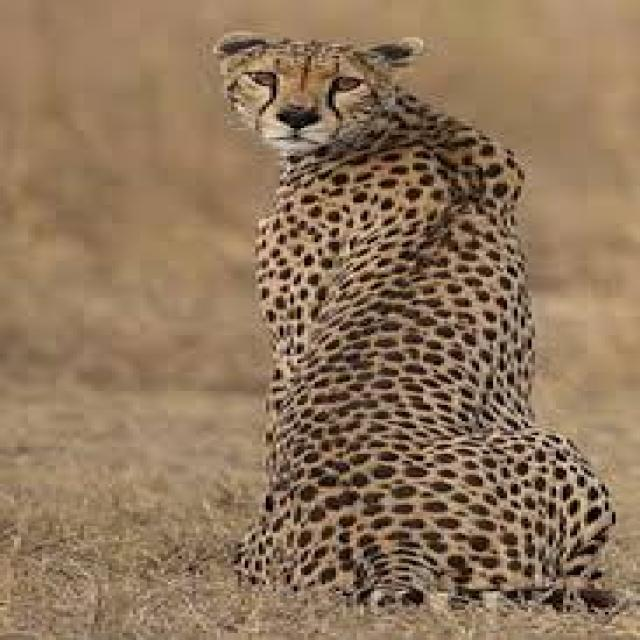Jaguar: (196, 28, 619, 621)
